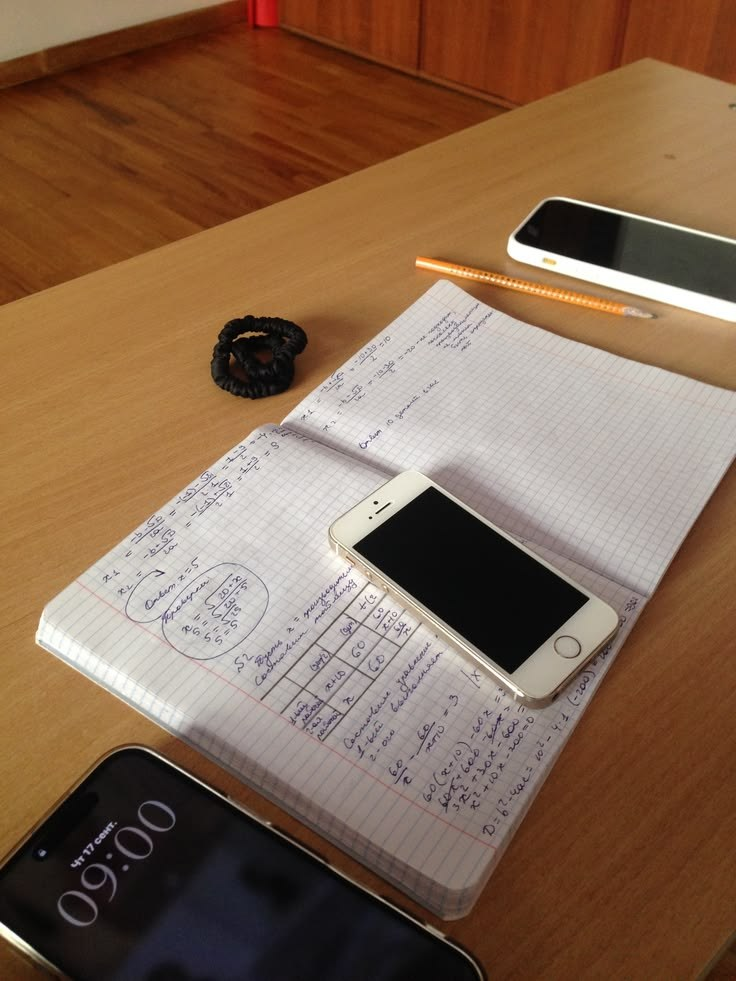cell phone: (0, 737, 487, 977), (330, 467, 623, 708), (506, 195, 736, 323)
